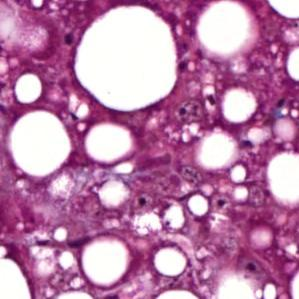steatosis: (75, 7, 183, 110), (5, 108, 75, 179)
